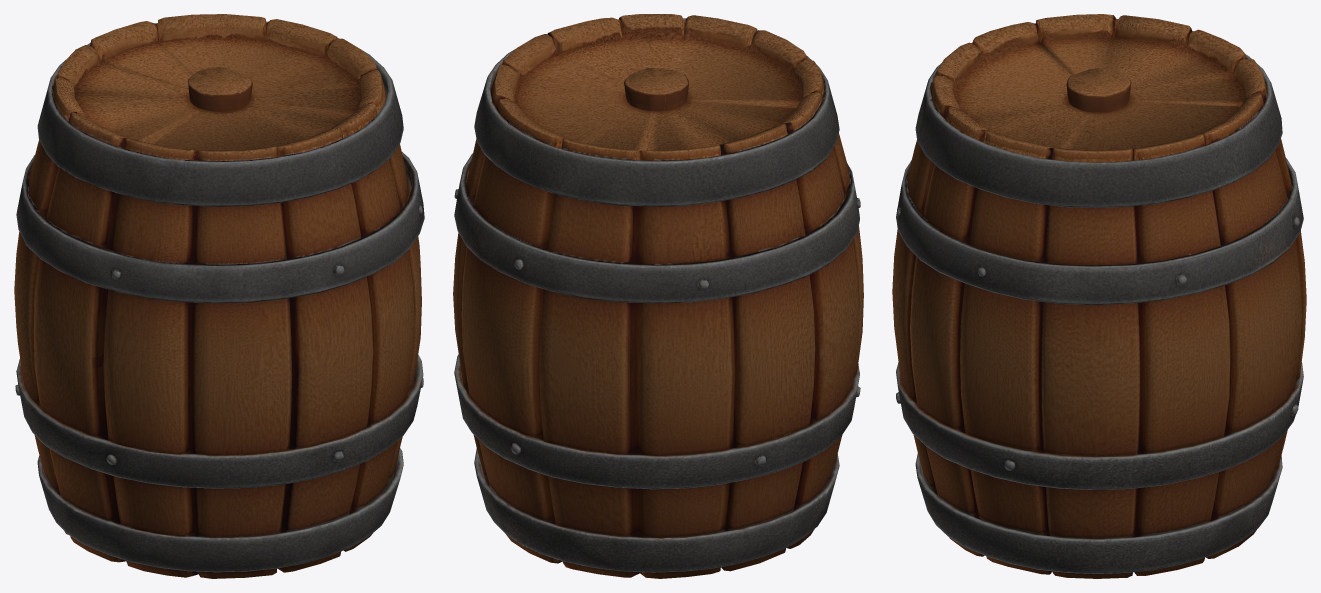
File: tripo_convert_dec765dd-174c-4012-ae0d-f8c70f71a61e.fbx
The picture shows the model from 3 angles, left to right: view 1: azimuth 30°, elevation 25°; view 2: azimuth 150°, elevation 25°; view 3: azimuth 270°, elevation 25°; orthographic projection.
Visible parts, largest first — view 1: tripo_node_dec765dd; view 2: tripo_node_dec765dd; view 3: tripo_node_dec765dd.
Boxes of the visible parts, <box> form: tripo_node_dec765dd: <box>14,14,424,578</box>; tripo_node_dec765dd: <box>453,14,863,578</box>; tripo_node_dec765dd: <box>892,14,1306,578</box>.
Size of the model in its own units: 0.873 by 0.998 by 0.873.
1 material, 1 textured.
